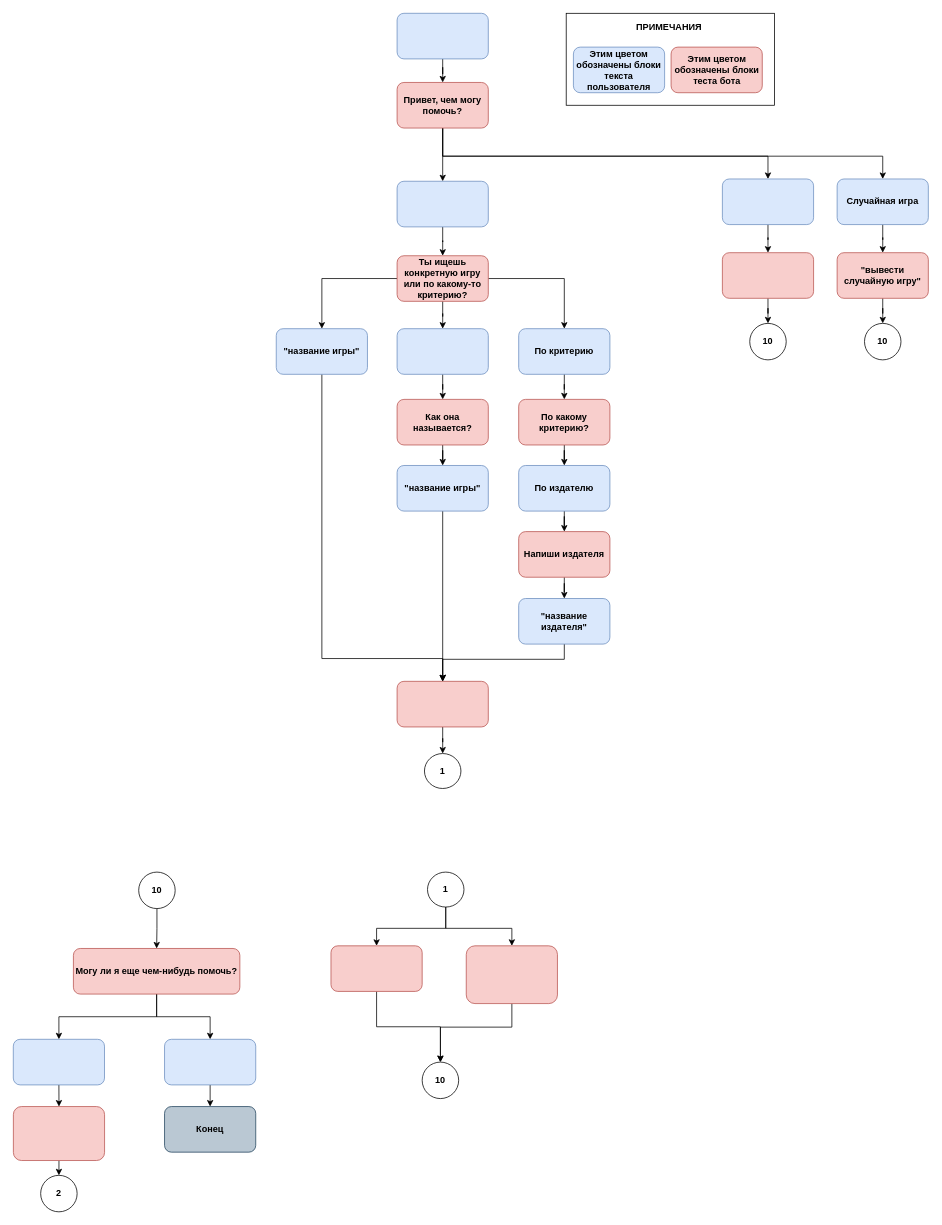
This 942x1225 diagram has some shape labels left out. The centre of each missing label's shape, as x and y in pixels:
"вывести список игр": pixel 768 275
Да: pixel 58 1062
Какие у тебя есть игры: pixel 768 201
Конкретную: pixel 442 351
Найдены следующие(ий) результат(ы): "Вывод результатов": pixel 511 974
Найди игру: pixel 442 203
Нет: pixel 210 1062
По твоему запросу ничего не найдено: pixel 376 968
Пожалуйста, сформулируй вопрос: pixel 59 1133
Привет: pixel 442 36
Сейчас поищу: pixel 442 704
